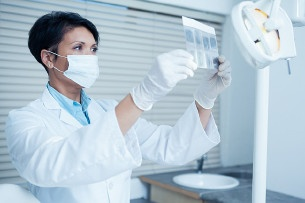Mask: (61, 38, 107, 86)
